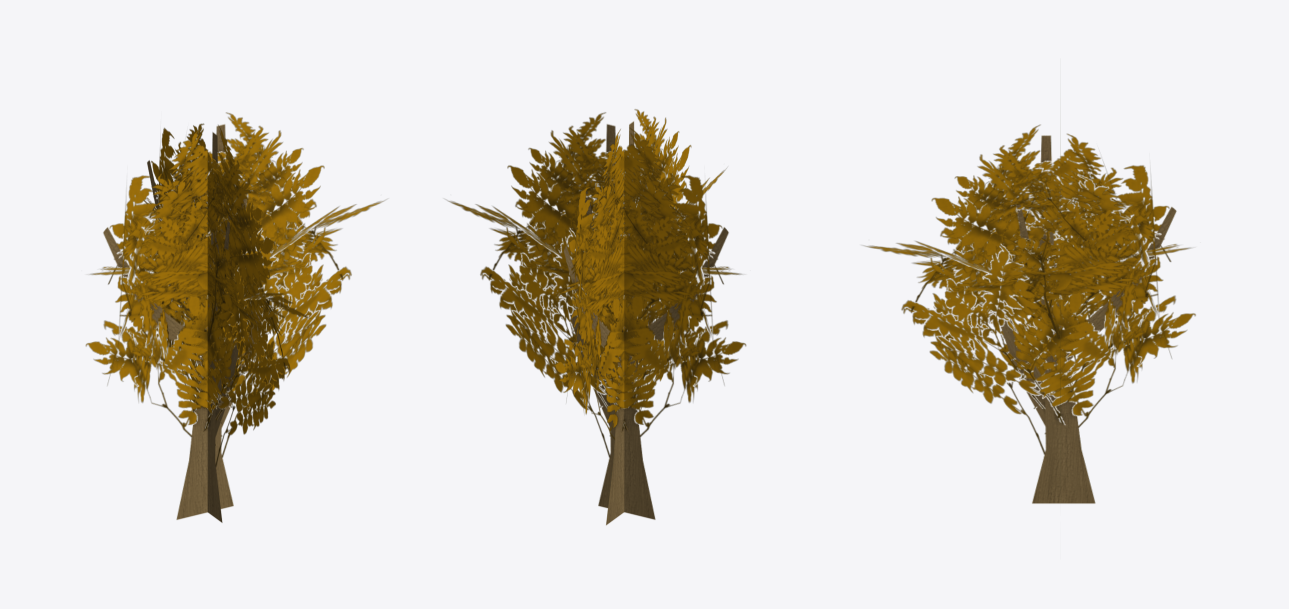
Rendered from stklib_autumnTree_d_low.glb.
3 views of the same model, side by side, from view 1: azimuth 30°, elevation 25°; view 2: azimuth 150°, elevation 25°; view 3: azimuth 270°, elevation 25° (orthographic). The views are drawn at different scales.
Visible parts, largest first — view 1: tree_d.png__; view 2: tree_d.png__; view 3: tree_d.png__.
Part boxes in pixels (x1,y1,x2,y2): tree_d.png__: [85, 112, 384, 522]; tree_d.png__: [447, 109, 746, 525]; tree_d.png__: [863, 124, 1195, 503].
Bounding box in the file's own units: 13.34 × 13.73 × 13.34.
1 material, 1 textured.
